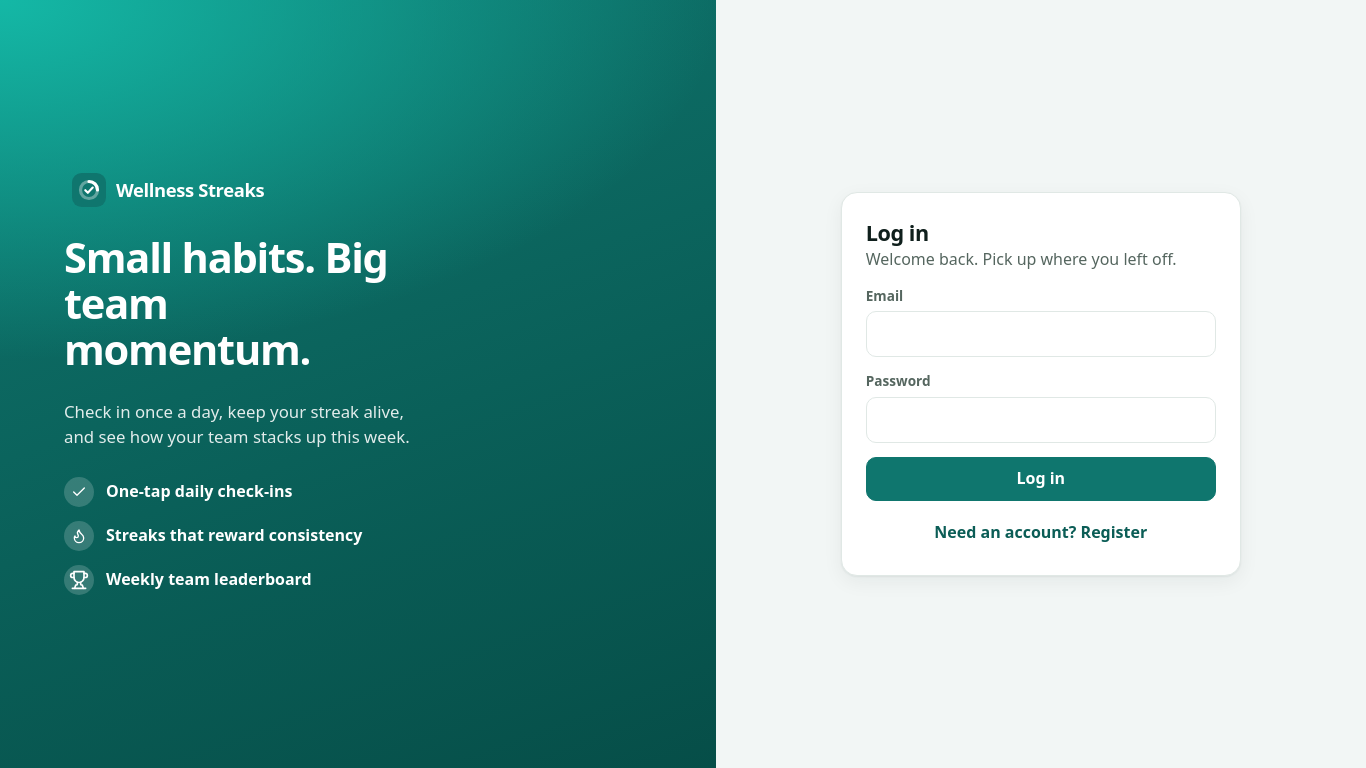
Test case: login flow › shows the API error on bad credentials
The width and height of the screenshot is (1366, 768).
Type "user@example.com" into the field labelled "Email" at (1041, 334), box [866, 311, 1216, 357]
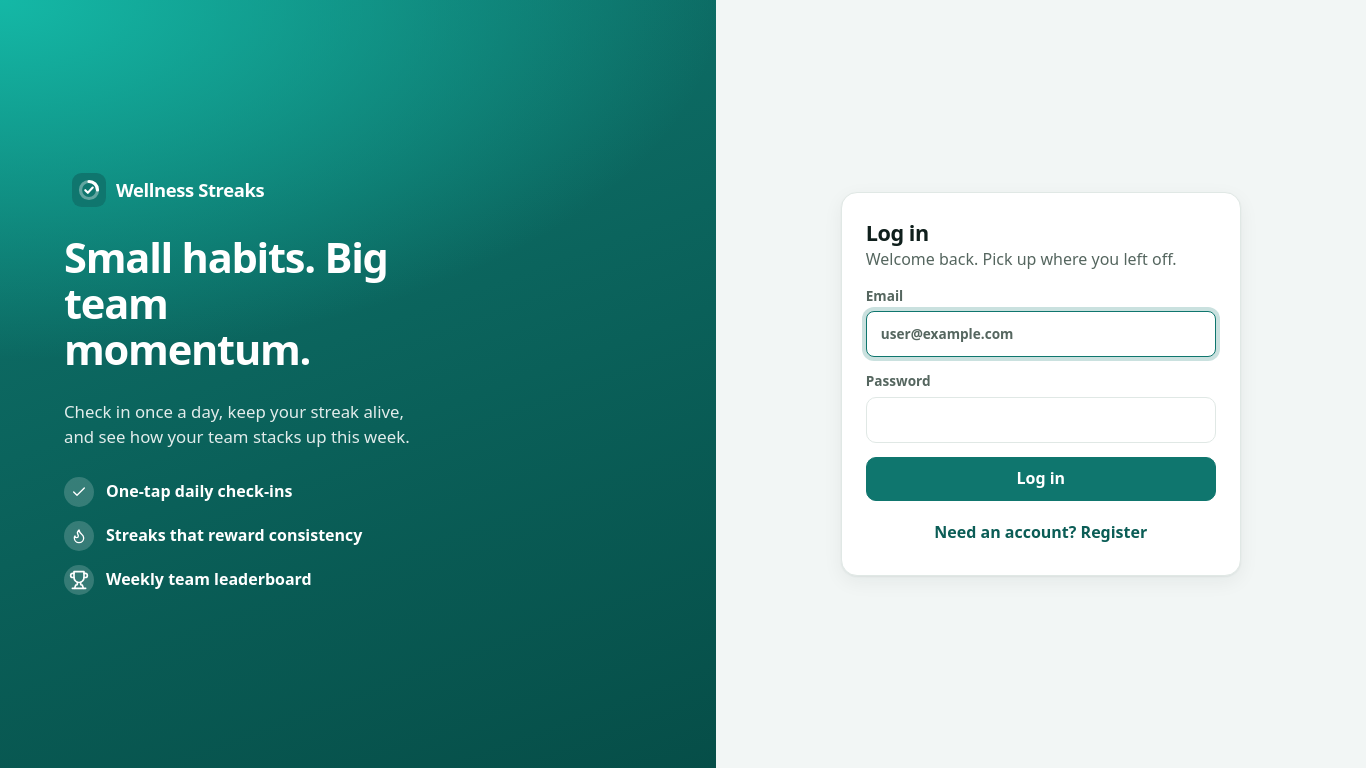
Type "wrong-password" into the password field labelled "Password" at (1041, 420), box [866, 397, 1216, 443]
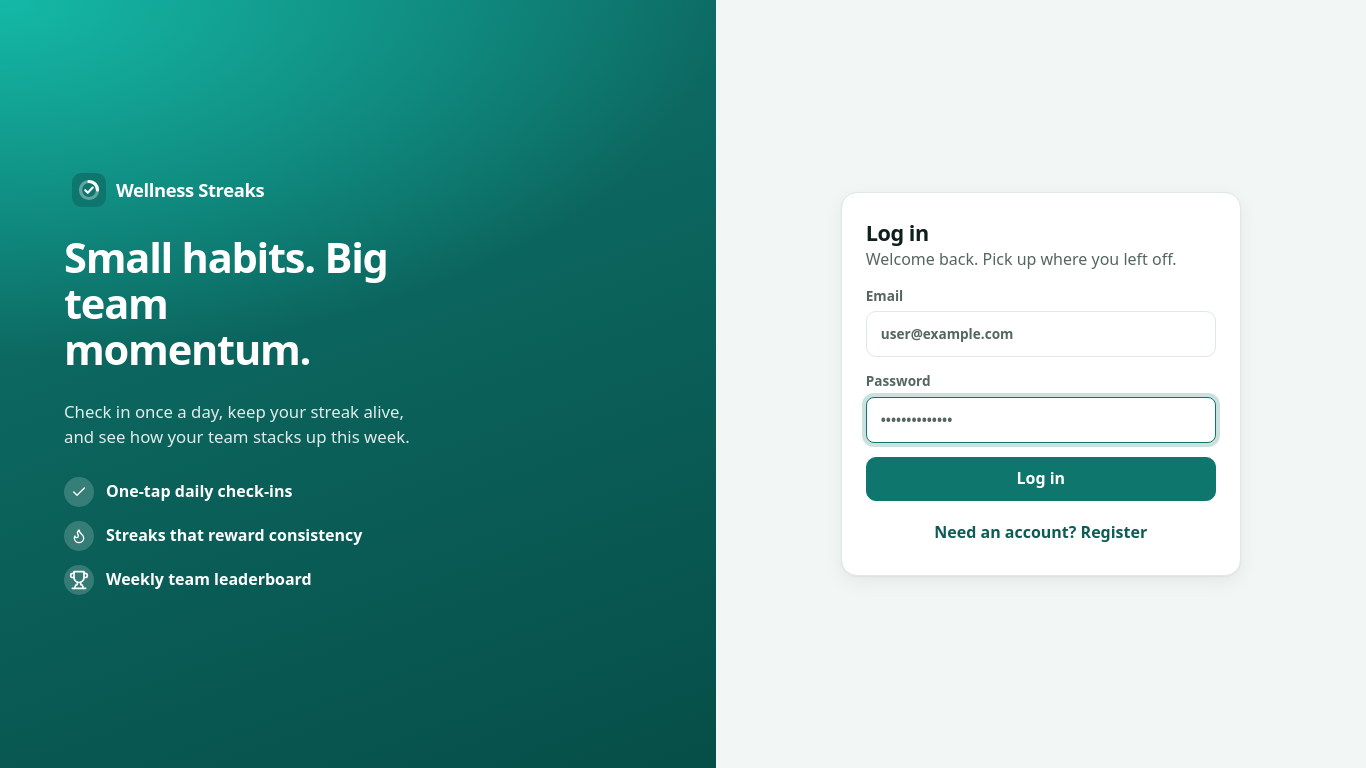
Click the button "Log in" at (1041, 479), box [866, 457, 1216, 501]
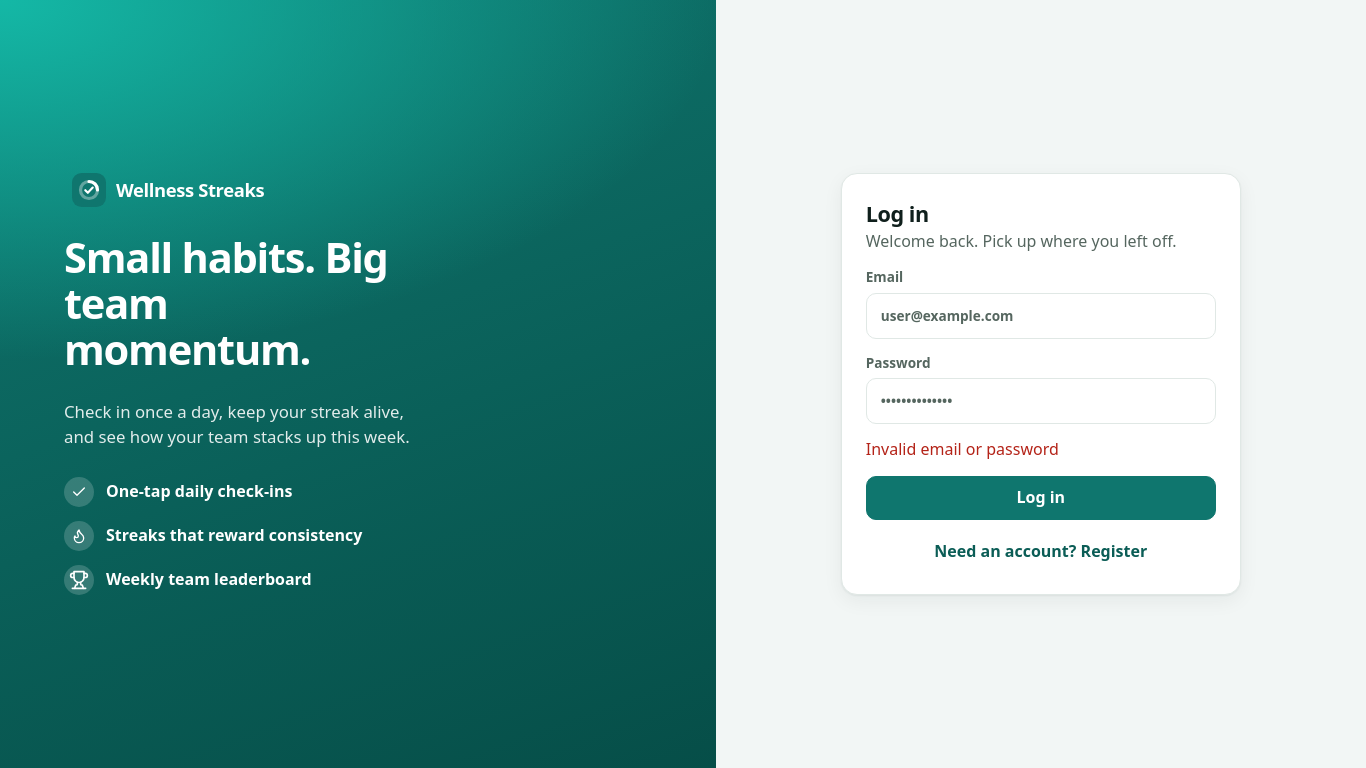
Now the message reads "Invalid email or password", box [866, 438, 1059, 460]
